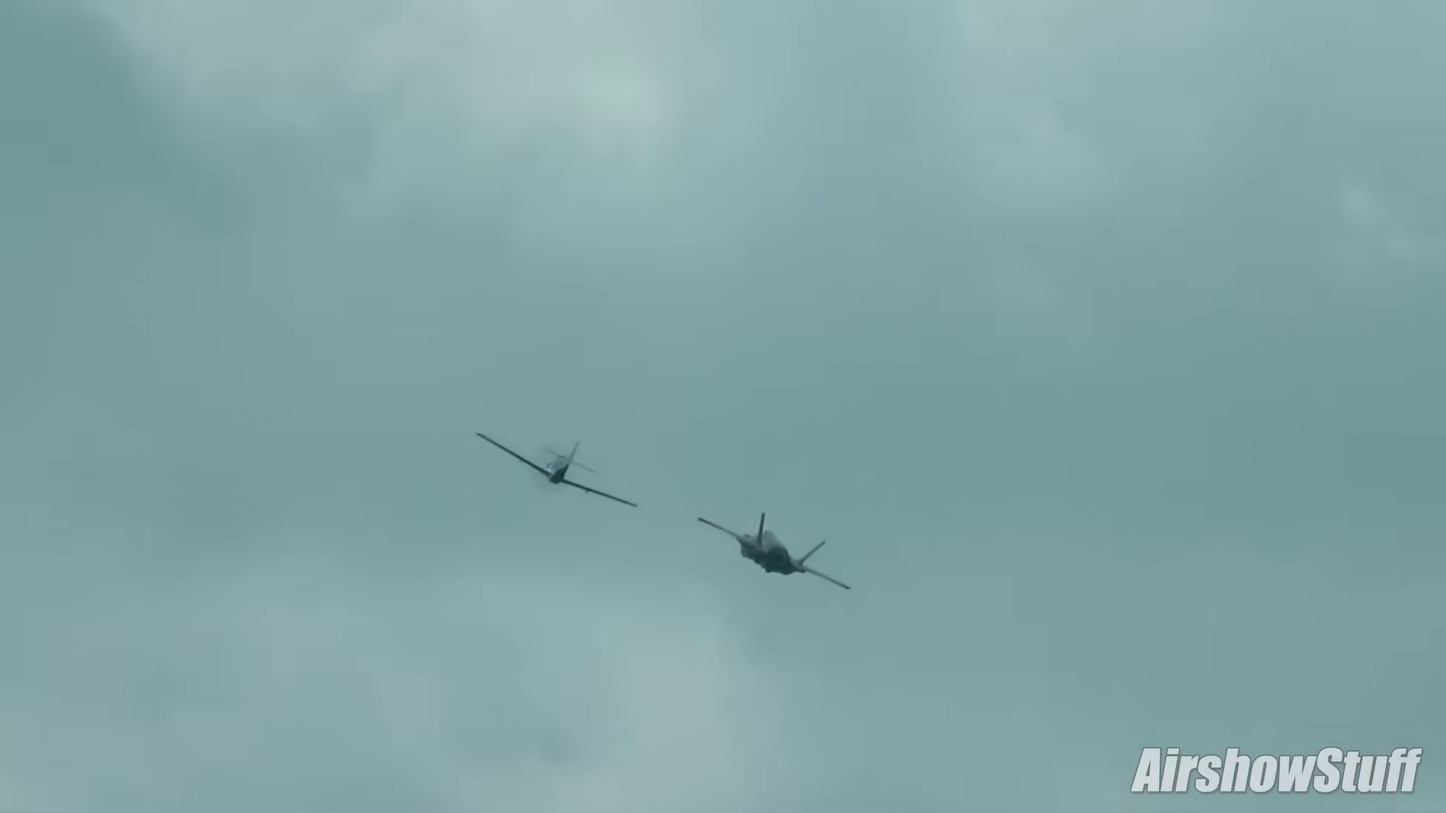F35: (696, 511, 855, 593)
